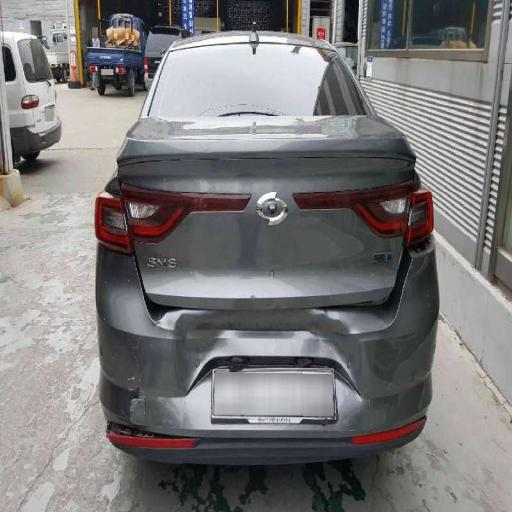dent: (147, 194, 398, 412)
